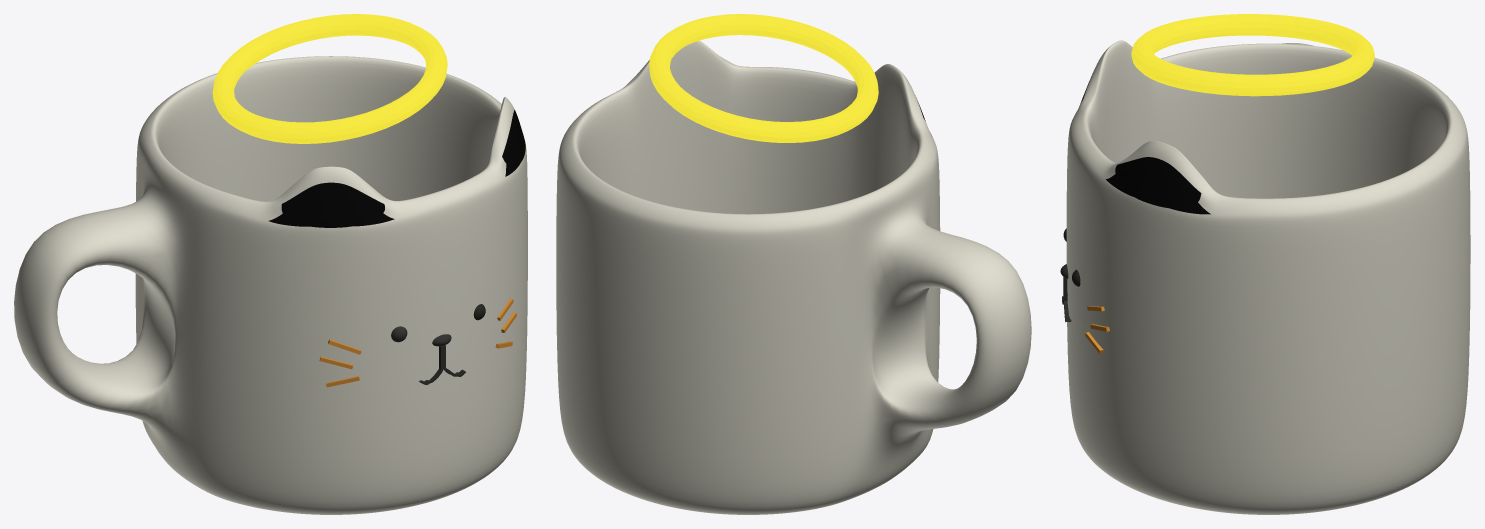
File: Cat_cup3.glb
3 renders of one model, left to right at view 1: azimuth 30°, elevation 25°; view 2: azimuth 150°, elevation 25°; view 3: azimuth 270°, elevation 25°, orthographic. The views are drawn at different scales.
Visible parts, largest first — view 1: Cylinder, Torus; view 2: Cylinder, Torus; view 3: Cylinder, Torus.
Boxes of the visible parts, x1,y1,x2,y2 form: Cylinder: [14, 56, 527, 514]; Torus: [212, 14, 447, 143]; Cylinder: [556, 40, 1031, 514]; Torus: [649, 14, 878, 142]; Cylinder: [1066, 40, 1470, 514]; Torus: [1131, 14, 1374, 96].
Bounding box in the file's own units: 2.61 × 2.16 × 1.94.
